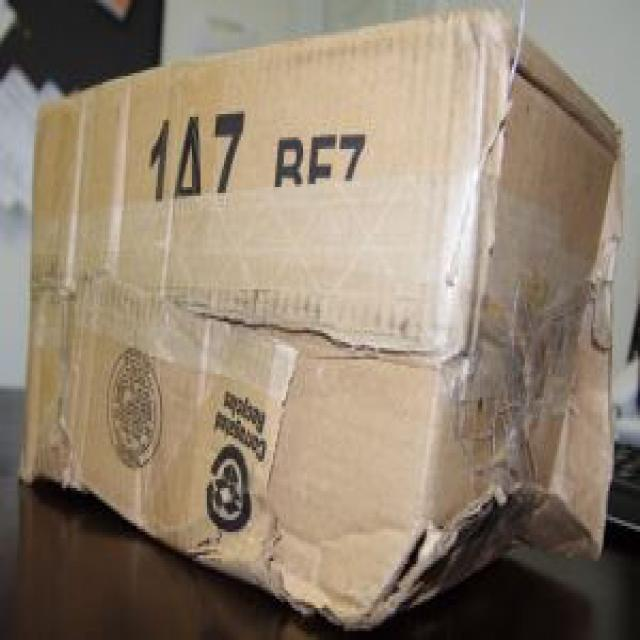Kardus kondisi rusak: (14, 6, 626, 635)
